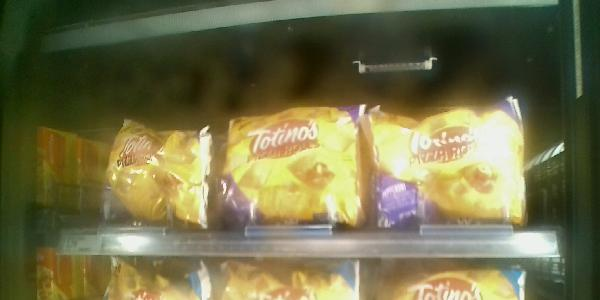icecream: (365, 99, 535, 229), (221, 102, 370, 235), (99, 116, 213, 229)
